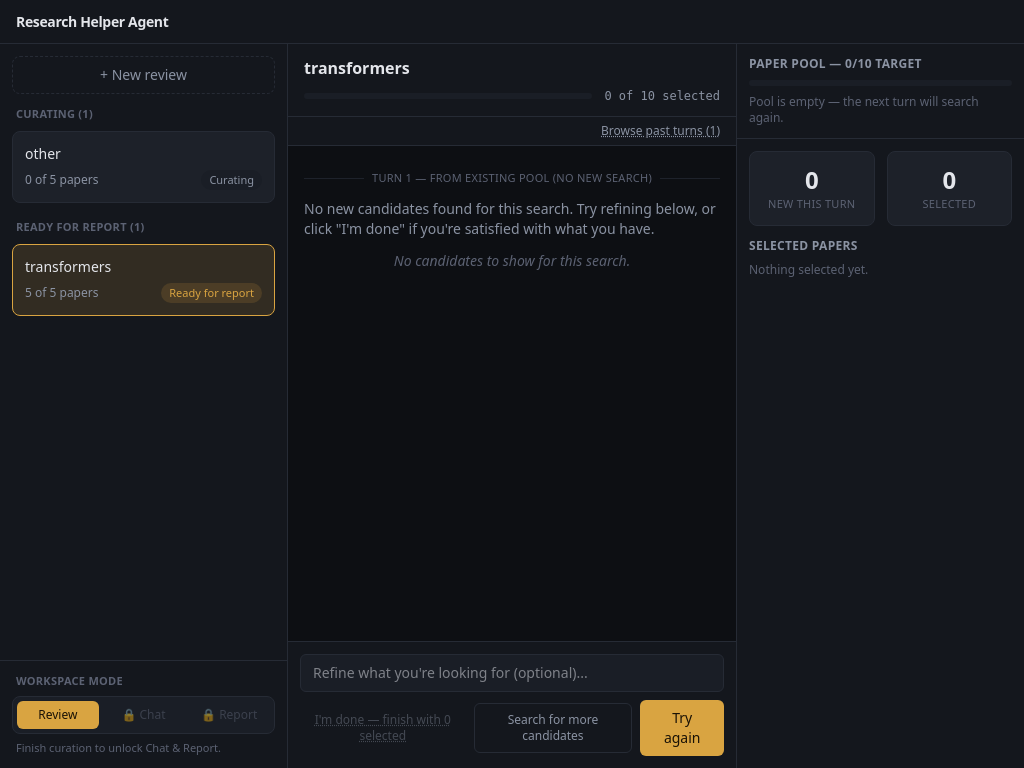
App › opening turn history replaces the mode panel AND hides the pool summary, from any workspace mode (Phase 9f)
Expected: the element with test id "stat-selected" is shown, [886,151,1012,226]
Step 1. Click the button with test id "open-turn-history" → coordinates (660, 131), box [601,123,720,139]
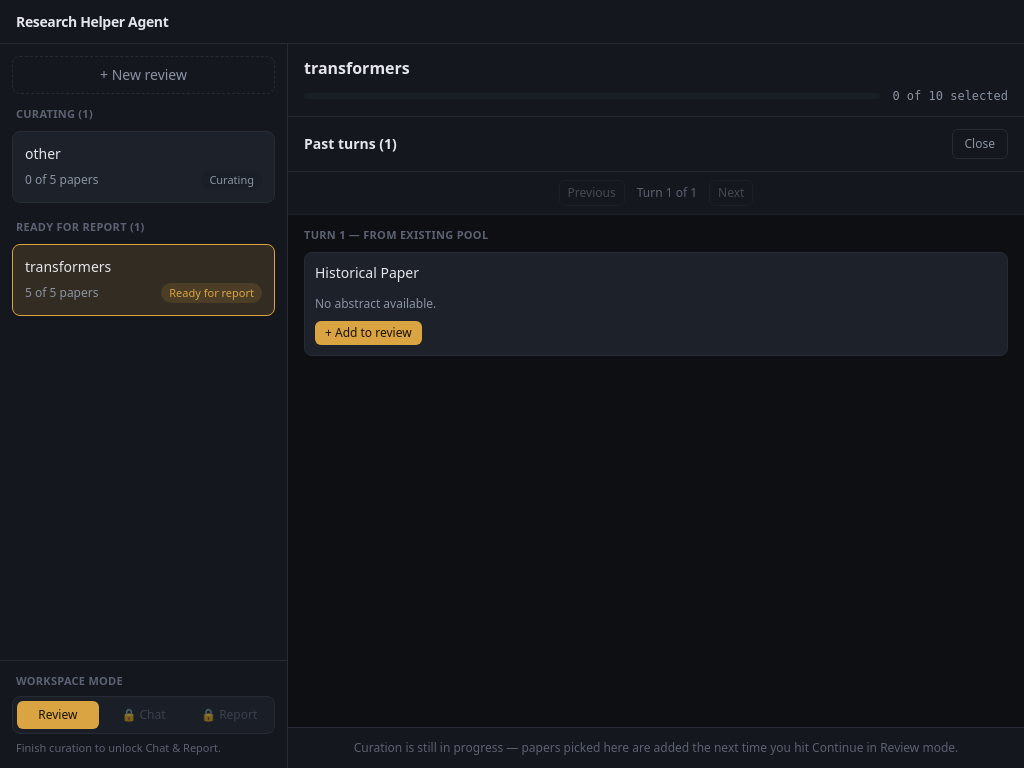
Now the text "Historical Paper" is shown, box [315,262,419,282]
Now the button with test id "close-turn-history" is shown, box [952,129,1008,159]
Now the button with test id "review-continue" is gone
